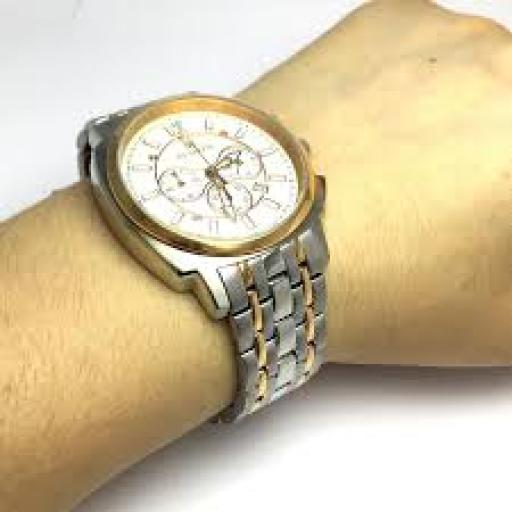KolSaati: (69, 79, 353, 416)
